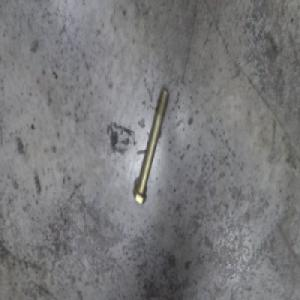Bolt: (131, 88, 172, 203)
